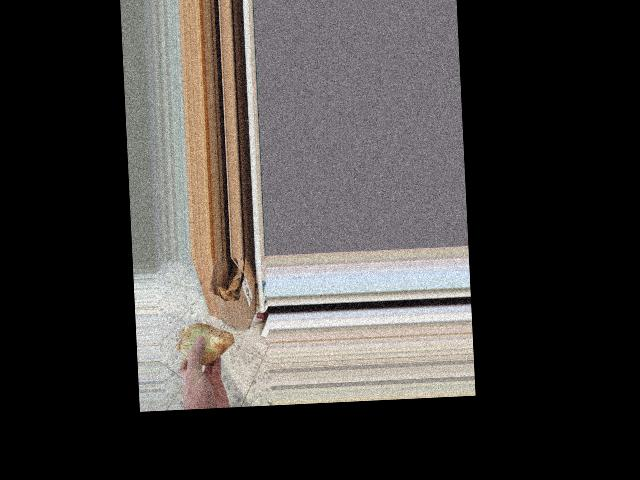onion: (175, 320, 236, 369)
